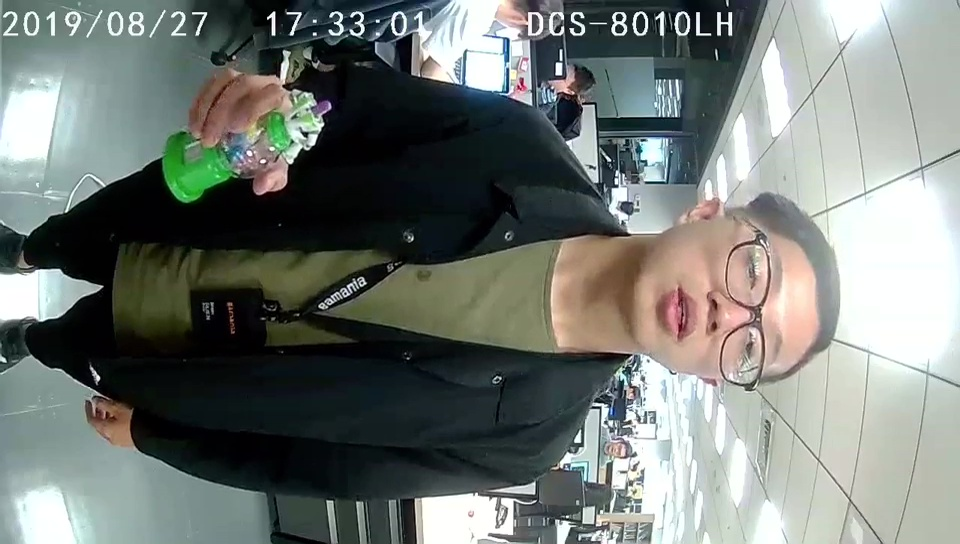buzz: (162, 86, 335, 204)
